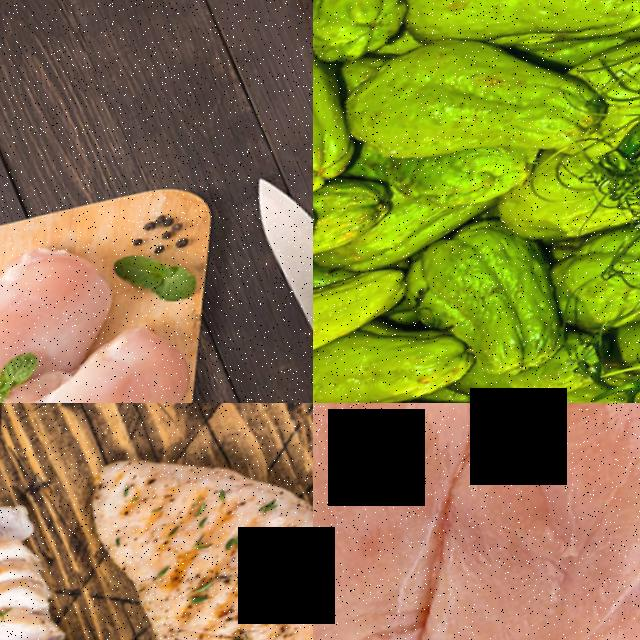chayote: (313, 0, 581, 235), (402, 205, 591, 403), (313, 237, 414, 403), (313, 354, 550, 403)
chicken breast: (313, 403, 640, 640), (0, 237, 119, 403)
